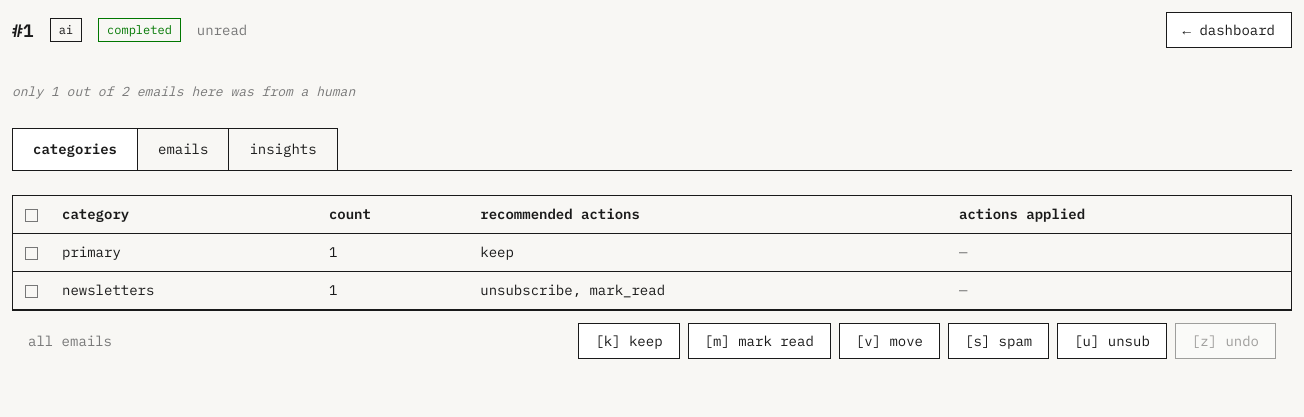
it: AnalysisPage - Emails Tab › undo button becomes enabled after applying an action
The width and height of the screenshot is (1304, 417).
Expected: the text "primary" is shown, x1=50 y1=233 x2=317 y2=271
Step 1. Click the text "emails" → (183, 148), box x1=137 y1=128 x2=229 y2=170
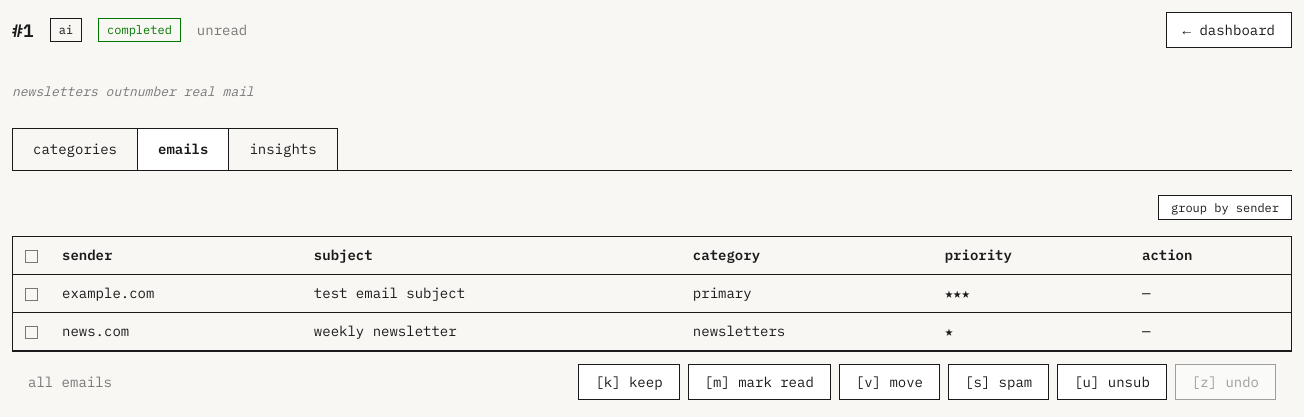
Act — apply an action
Step 2. Click the button "[m] mark read" → (759, 382), box x1=688 y1=364 x2=831 y2=400
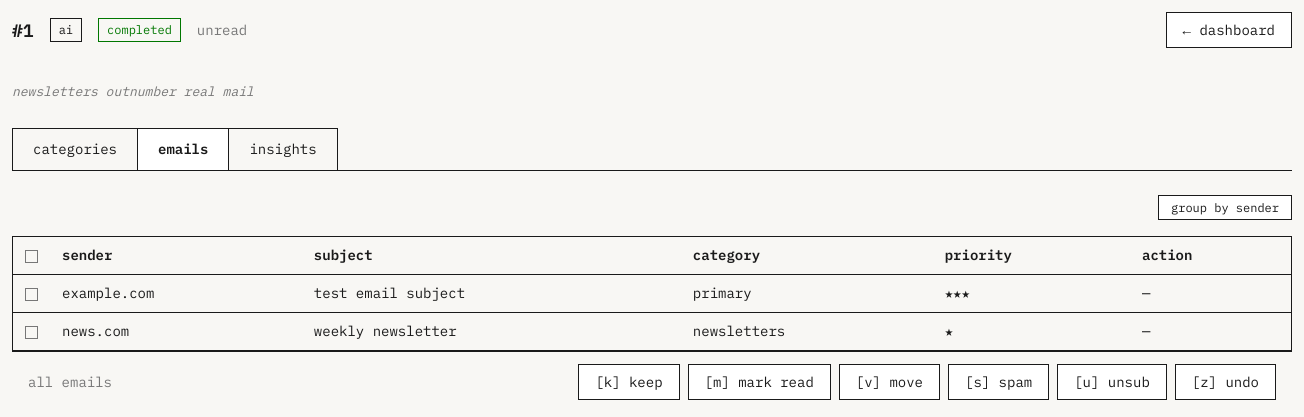
Now the button "[z] undo" is enabled, box x1=1175 y1=364 x2=1276 y2=400
